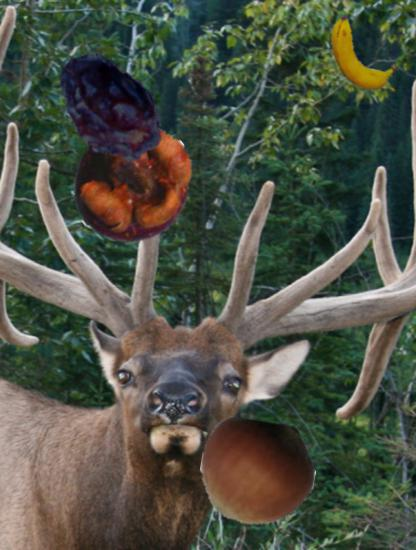Banana: (319, 11, 403, 95)
Dates: (47, 47, 172, 172)
Mangostan: (70, 120, 198, 248)
Nut: (200, 415, 316, 531)
